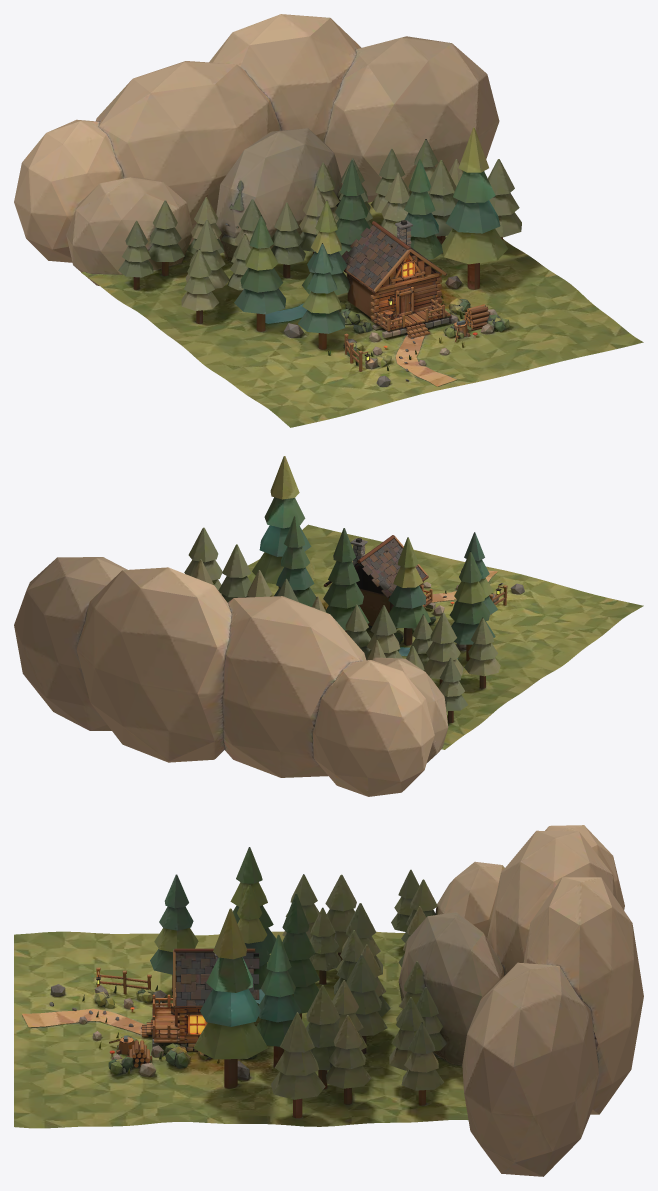
File: sol-ultra-diorama.glb
The picture shows the model from 3 angles, top to bottom: view 1: azimuth 30°, elevation 25°; view 2: azimuth 150°, elevation 25°; view 3: azimuth 270°, elevation 25°; orthographic projection. The views are drawn at different scales.
Visible parts, largest first — view 1: Sol Ultra baked environment, Sol Ultra baked subject; view 2: Sol Ultra baked environment, Sol Ultra baked subject; view 3: Sol Ultra baked environment, Sol Ultra baked subject.
Boxes of the visible parts, x1,y1,x2,y2 form: Sol Ultra baked environment: (14,14,643,427); Sol Ultra baked subject: (284,220,497,386); Sol Ultra baked environment: (14,456,643,796); Sol Ultra baked subject: (323,535,524,650); Sol Ultra baked environment: (14,825,643,1176); Sol Ultra baked subject: (49,948,259,1079).
Size of the model in its own units: 45.87 by 20.6 by 50.
2 materials, 2 textured.
